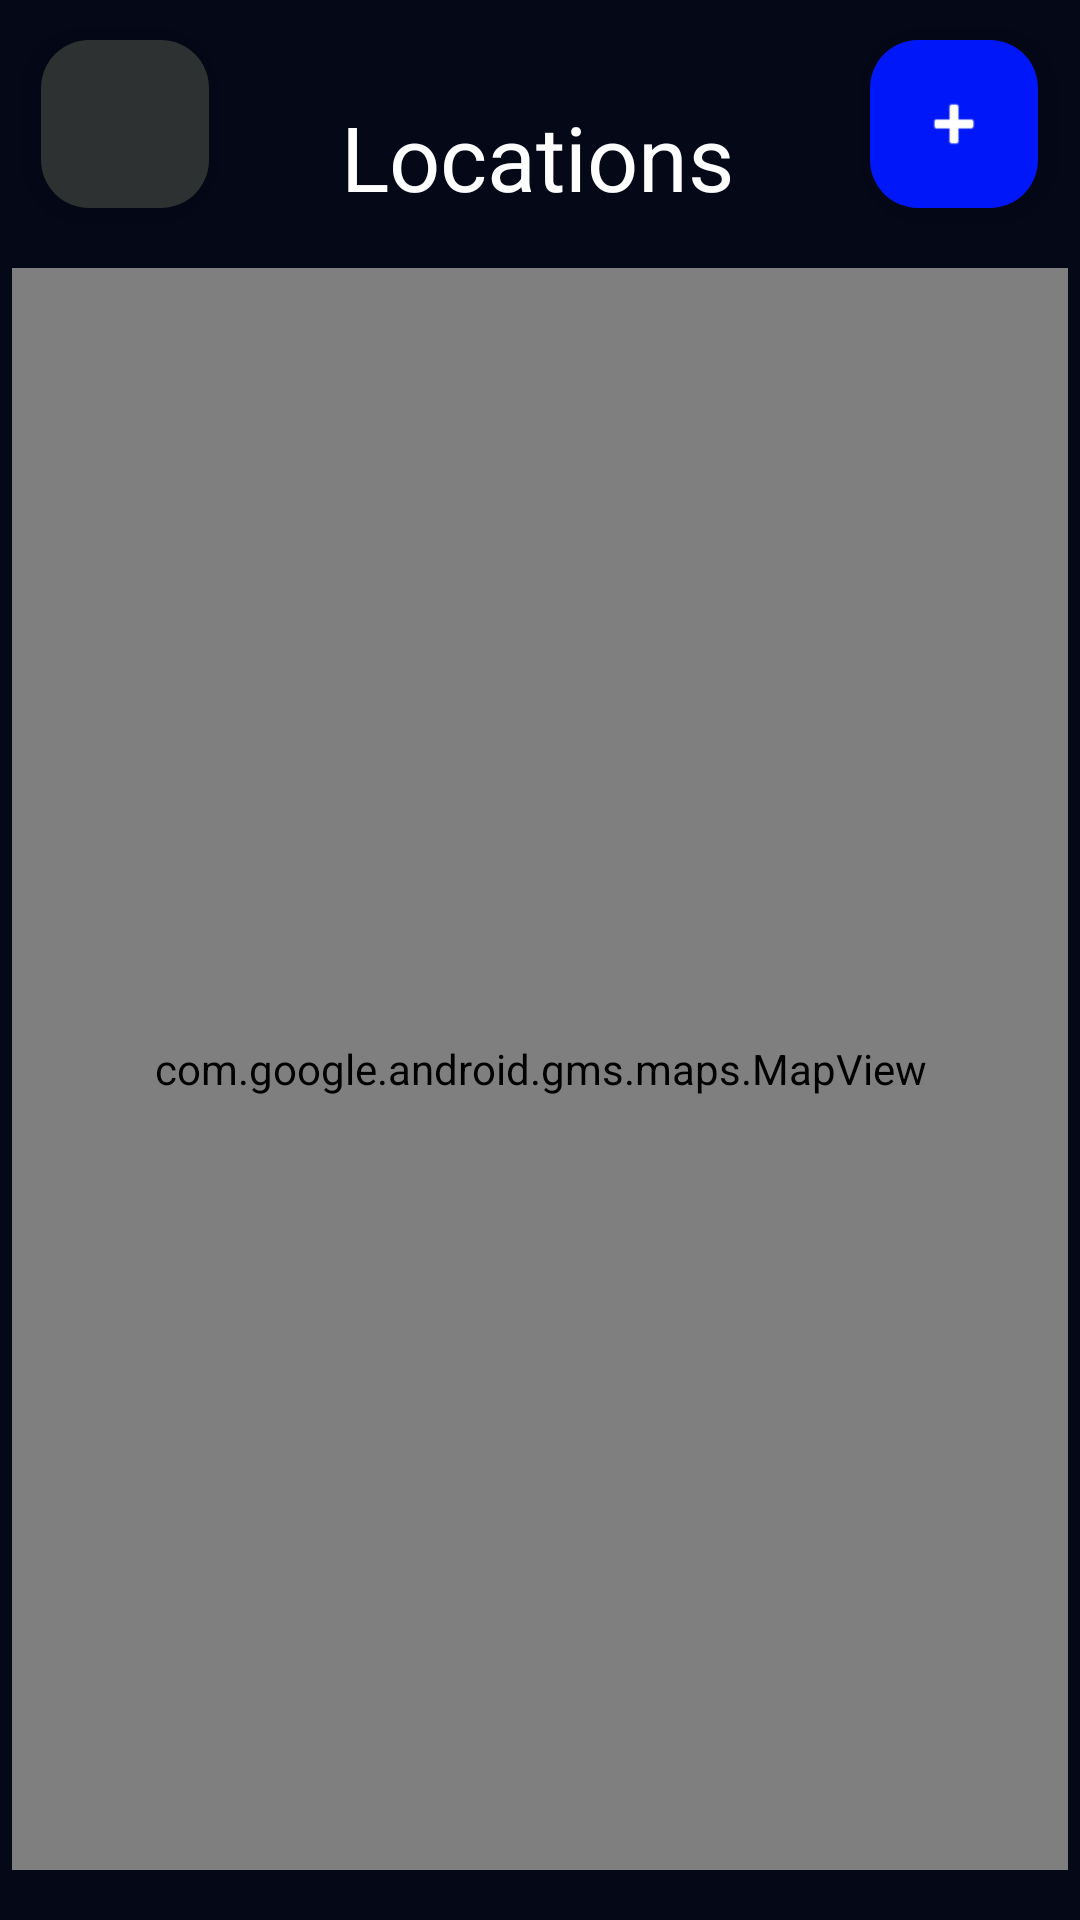

Named icons in this screenshot (1080w x 1920h) and their centers, point (x, y):
add: point (954, 124)
